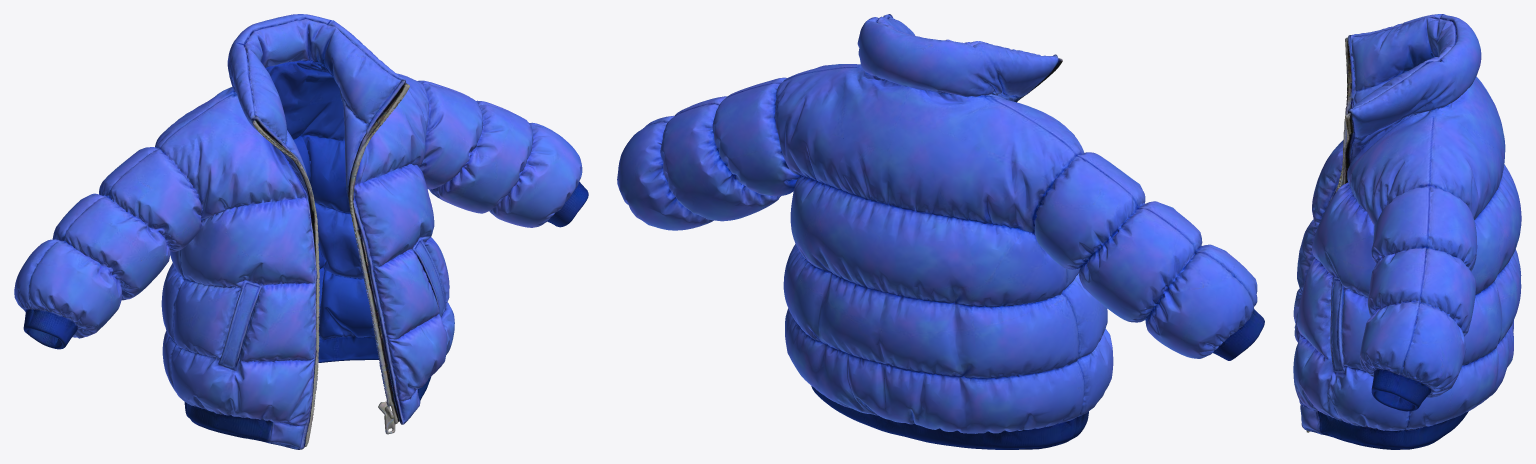
Rendered from puffer-electric-aurora.glb.
The picture shows the model from 3 angles, left to right: view 1: azimuth 30°, elevation 25°; view 2: azimuth 150°, elevation 25°; view 3: azimuth 270°, elevation 25°; orthographic projection. The views are drawn at different scales.
Bounding box in the file's own units: 1.9 × 1.2 × 0.6566.
1 material, 1 textured.
